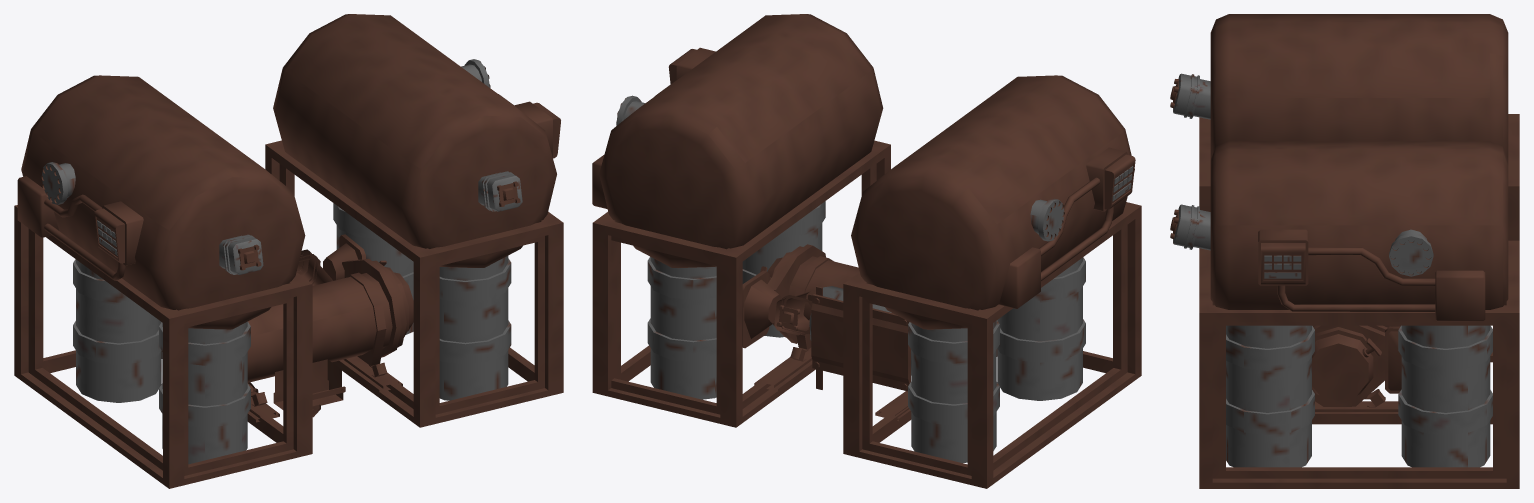
File: ConnectedBarrels.fbx
3 views of the same model, side by side, from view 1: azimuth 30°, elevation 25°; view 2: azimuth 150°, elevation 25°; view 3: azimuth 270°, elevation 25° (orthographic). The views are drawn at different scales.
Parts seen in each view (by area): view 1: Cylinder.018; view 2: Cylinder.018; view 3: Cylinder.018.
Part boxes in pixels (box(x1,y1,x2,y2)): Cylinder.018: box(14, 14, 563, 488); Cylinder.018: box(592, 14, 1141, 488); Cylinder.018: box(1170, 14, 1519, 488).
Bounding box in the file's own units: 620 × 390 × 407.
